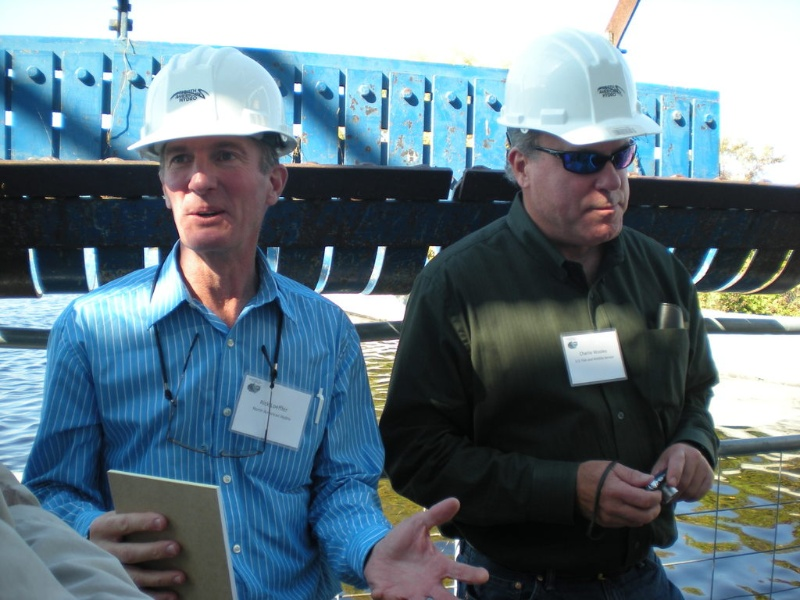helmet: (119, 43, 307, 151), (495, 25, 665, 144)
